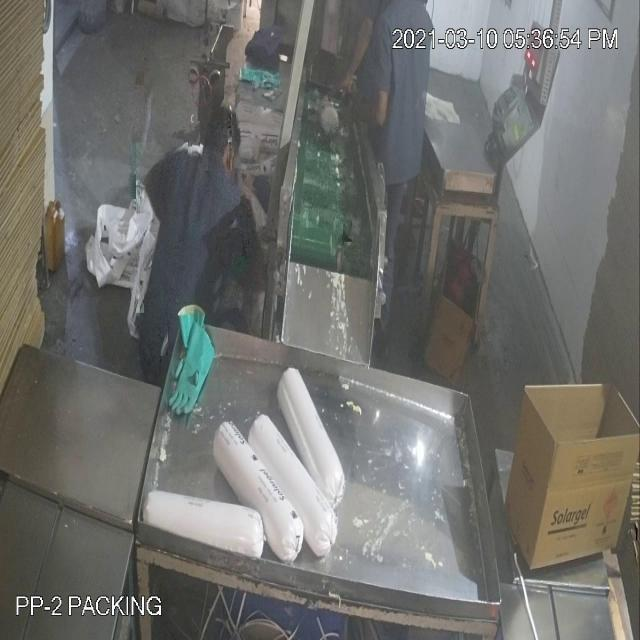No_Gloves: (327, 16, 385, 98)
